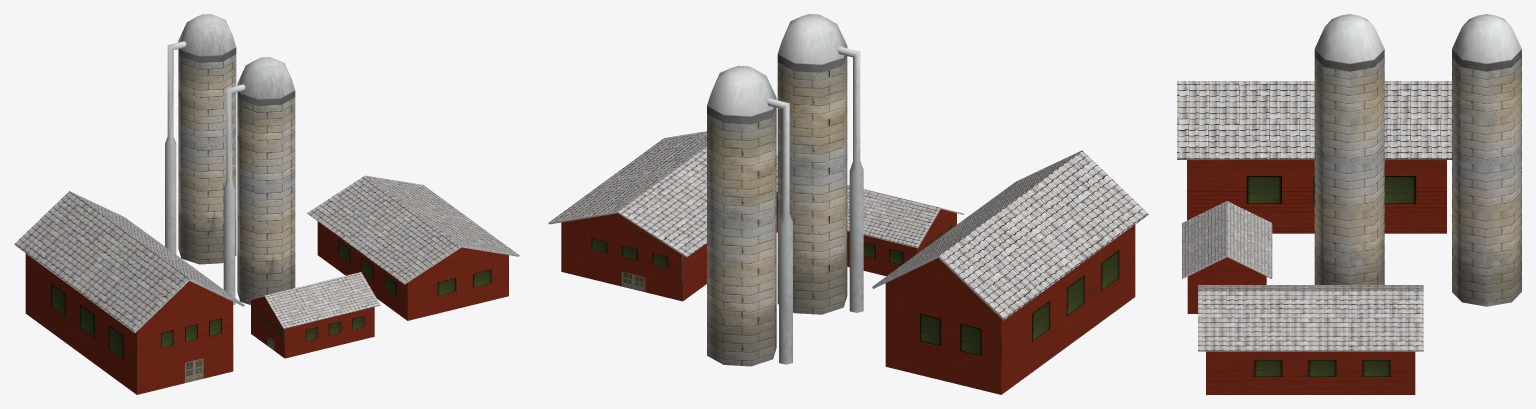
The model's file is sb_Farm.fbx.
3 renders of one model, left to right at view 1: azimuth 30°, elevation 25°; view 2: azimuth 150°, elevation 25°; view 3: azimuth 270°, elevation 25°, orthographic. The views are drawn at different scales.
Visible parts, largest first — view 1: sb_farm_mesh; view 2: sb_farm_mesh; view 3: sb_farm_mesh.
Part boxes in pixels (left/top/right/bottom): sb_farm_mesh: left=14, top=14, right=519, bottom=394; sb_farm_mesh: left=548, top=14, right=1148, bottom=394; sb_farm_mesh: left=1177, top=14, right=1521, bottom=394.
Size of the model in its own units: 40.9 by 23.33 by 26.55.
